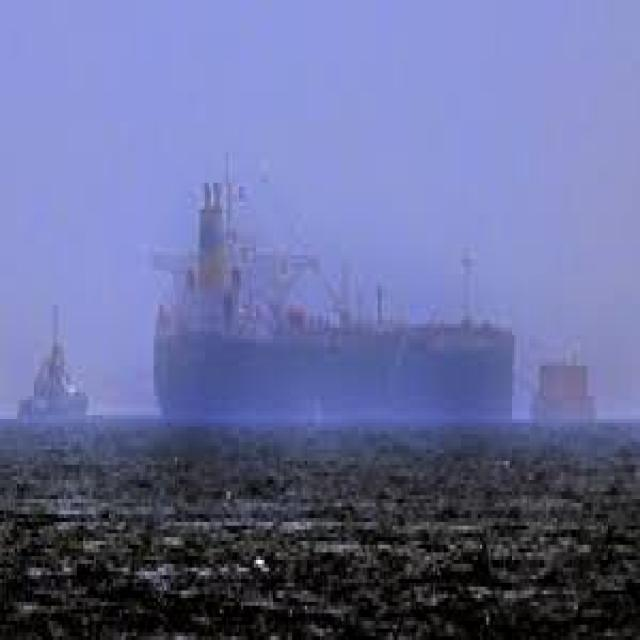cargoship: (140, 167, 520, 429), (16, 306, 99, 428), (529, 333, 597, 425)
